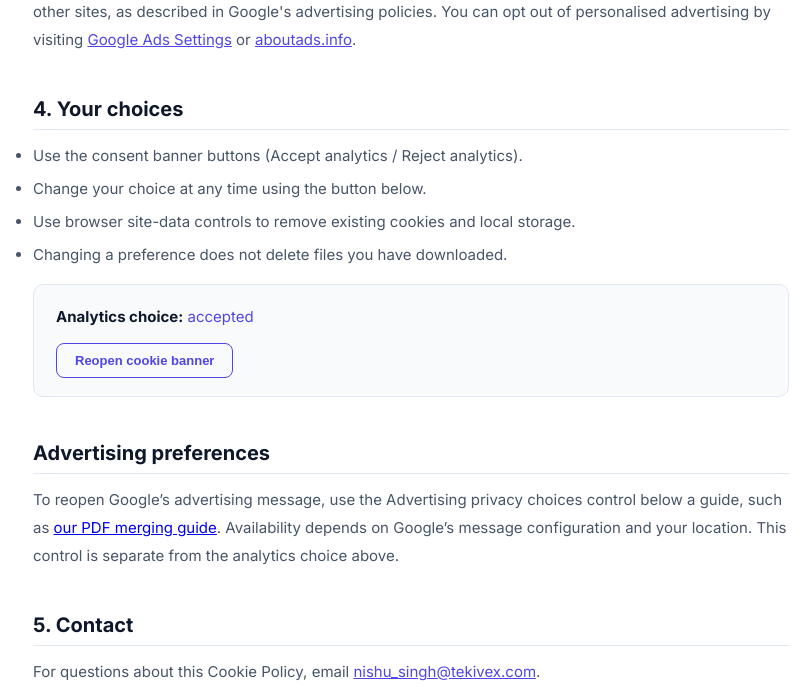
Test: CookiePolicyPage › Reopen banner button resets consent to undecided
(page scrolled)
Expected: the text with test id "consent-status" reads "accepted", [188,307,254,326]
Click the button with test id "manage-cookies". click: (145,361)
box: [56,343,233,378]
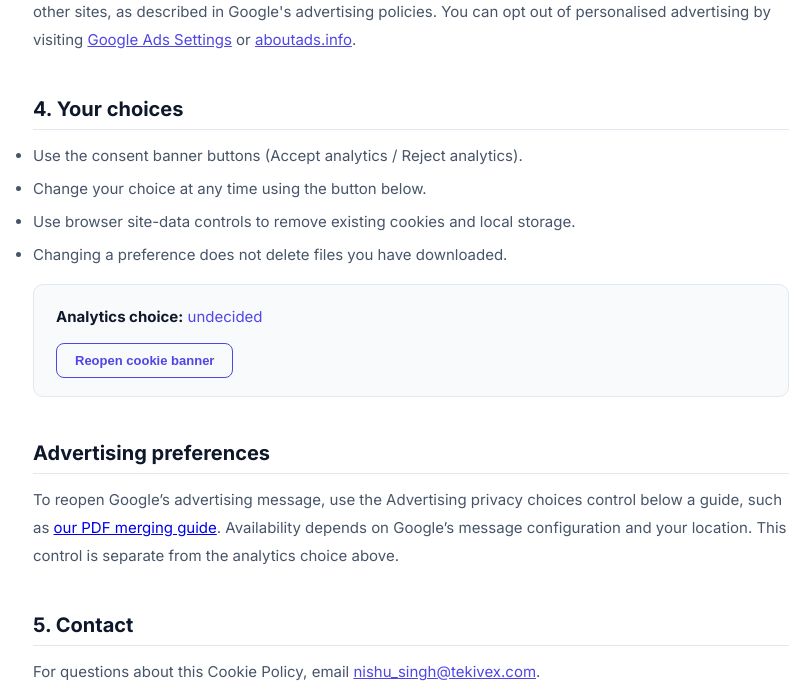
Result: the text with test id "consent-status" reads "undecided" at [188,307,262,326]
